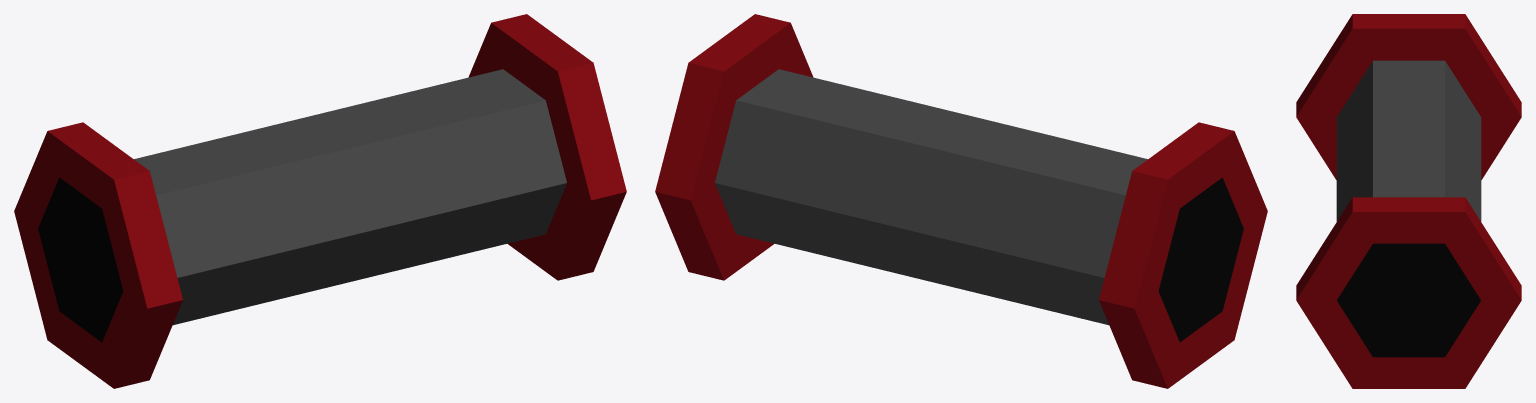
File: trubaPrymaya.fbx
The picture shows the model from 3 angles, left to right: view 1: azimuth 30°, elevation 25°; view 2: azimuth 150°, elevation 25°; view 3: azimuth 270°, elevation 25°; orthographic projection. The views are drawn at different scales.
Visible parts, largest first — view 1: Cylinder; view 2: Cylinder; view 3: Cylinder.
Part boxes in pixels (x1,y1,x2,y2): Cylinder: (14,14,626,388); Cylinder: (655,14,1267,388); Cylinder: (1296,14,1521,388).
Size of the model in its own units: 200 by 83.39 by 96.29.
